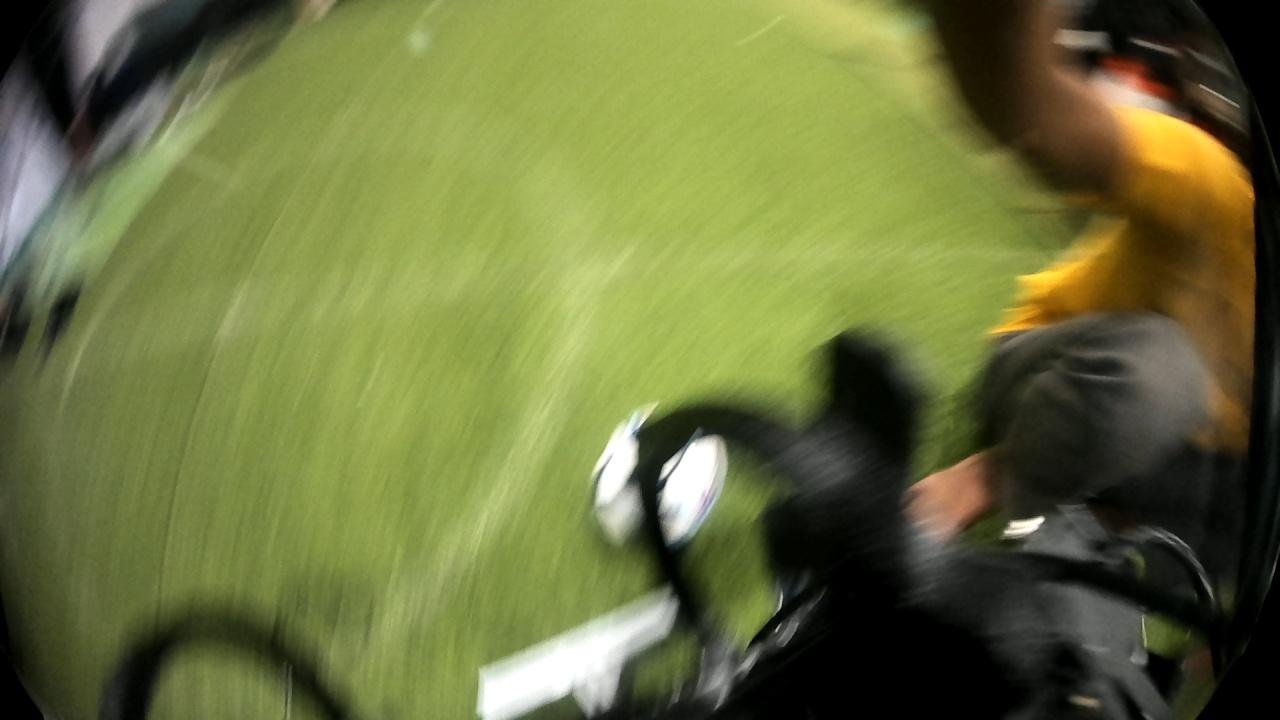ball: (589, 395, 727, 559)
